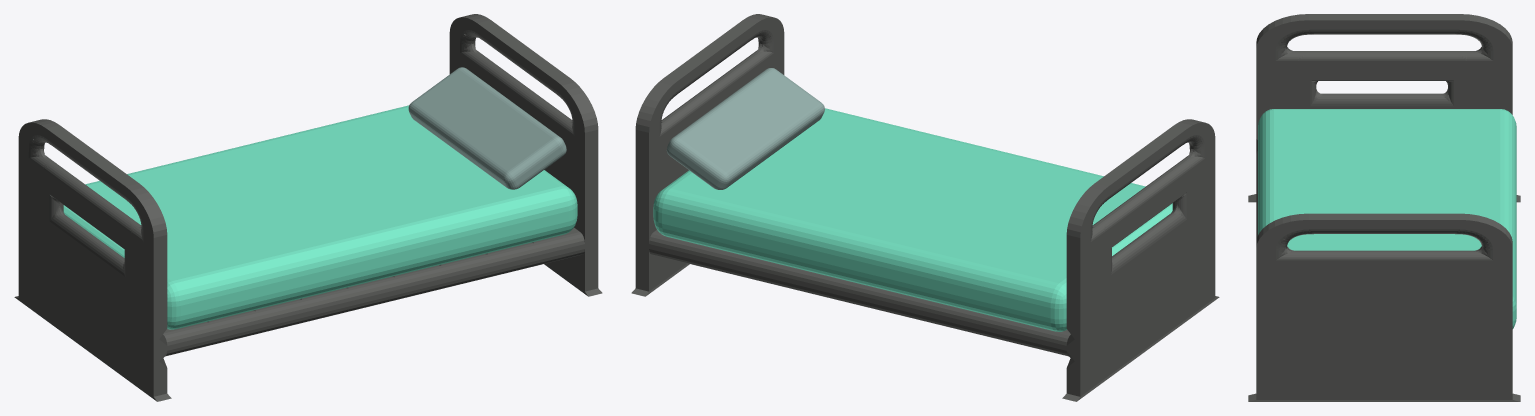
The model's file is camilla1.fbx.
The picture shows the model from 3 angles, left to right: view 1: azimuth 30°, elevation 25°; view 2: azimuth 150°, elevation 25°; view 3: azimuth 270°, elevation 25°; orthographic projection. The views are drawn at different scales.
Visible parts, largest first — view 1: Cube, Cube.001, Cube.002; view 2: Cube, Cube.001, Cube.002; view 3: Cube.001, Cube.
Boxes of the visible parts, bbox=[...] form: Cube: bbox=[63, 105, 577, 329]; Cube.001: bbox=[14, 14, 602, 401]; Cube.002: bbox=[408, 67, 566, 189]; Cube: bbox=[653, 108, 1172, 331]; Cube.001: bbox=[631, 14, 1219, 401]; Cube.002: bbox=[666, 68, 824, 189]; Cube.001: bbox=[1248, 14, 1520, 401]; Cube: bbox=[1258, 109, 1516, 328].
Size of the model in its own units: 6574 by 2704 by 3664.
